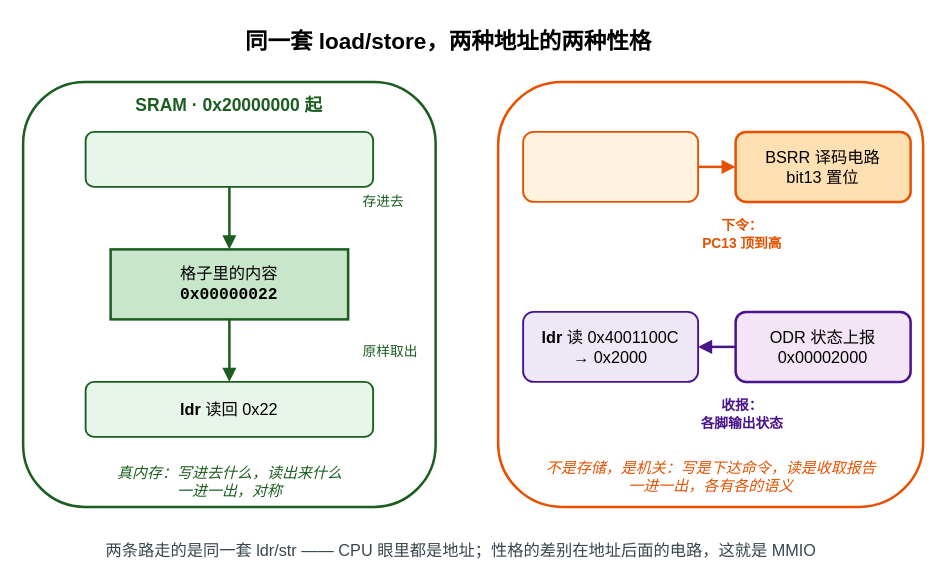
This 945x588 diagram has some shape labels left out. The box of each missing label's shape, as (x1, y1, x2, y2) in pixels:
str 写 0x40011010 ← 0x2000: (522, 130, 698, 202)
str 写入 0x22: (84, 130, 374, 187)
外设 · 0x40000000 起（以 GPIOC 为例）: (496, 80, 924, 508)
